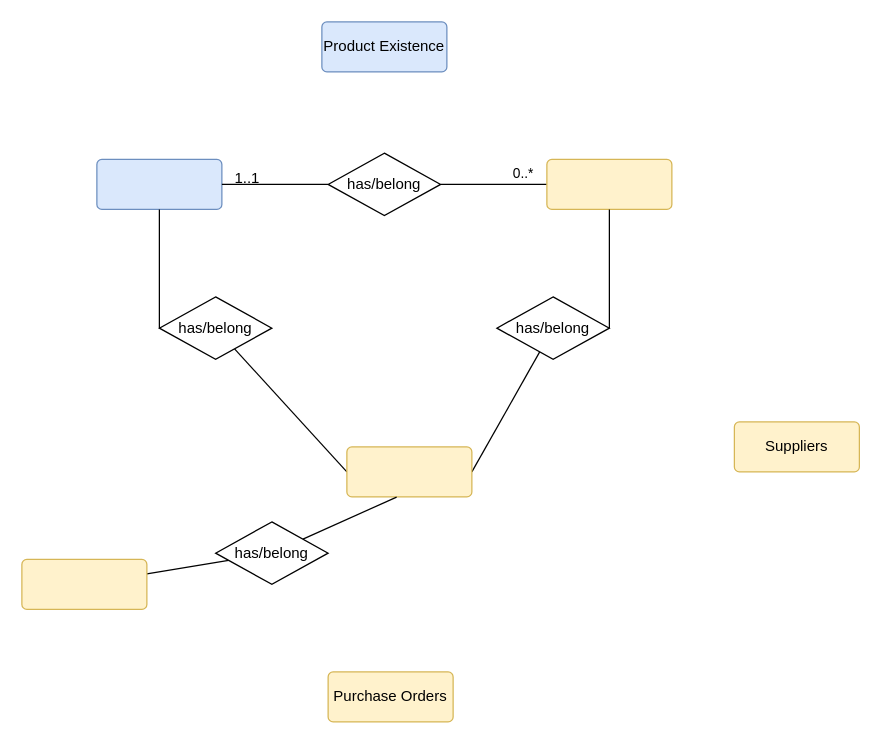
Image size: 881x744. Some labels were removed from this diagram. Here are the shapes that lost their labels. From the top down, the box of each, then its label:
(96, 158, 222, 209): Product
(546, 158, 672, 209): Transaction
(346, 446, 472, 497): Stock
(21, 558, 147, 609): Warehouse
